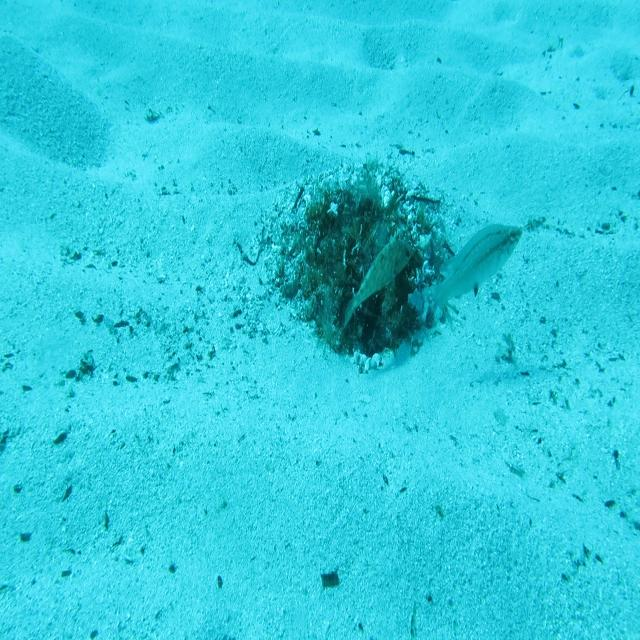ROLL: (343, 226, 415, 333)
core_nest: (335, 200, 380, 252)
female: (418, 218, 524, 329)
nest: (251, 147, 469, 385)
vegetation: (322, 572, 339, 588)
